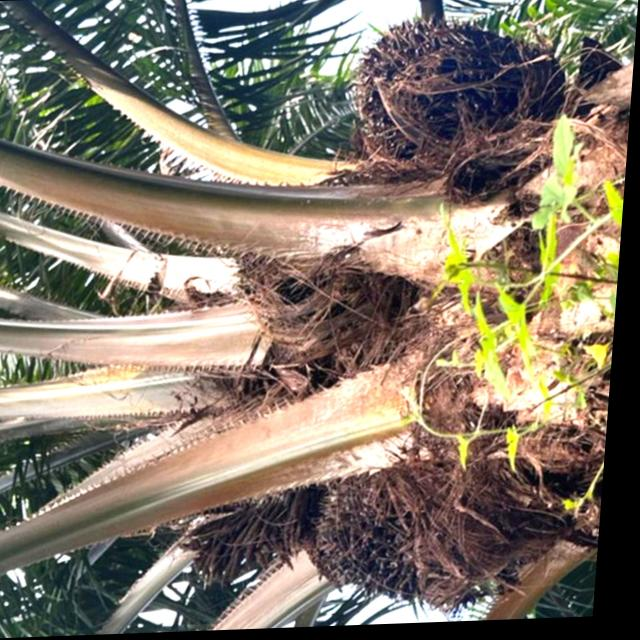unripe: (311, 453, 523, 625)
